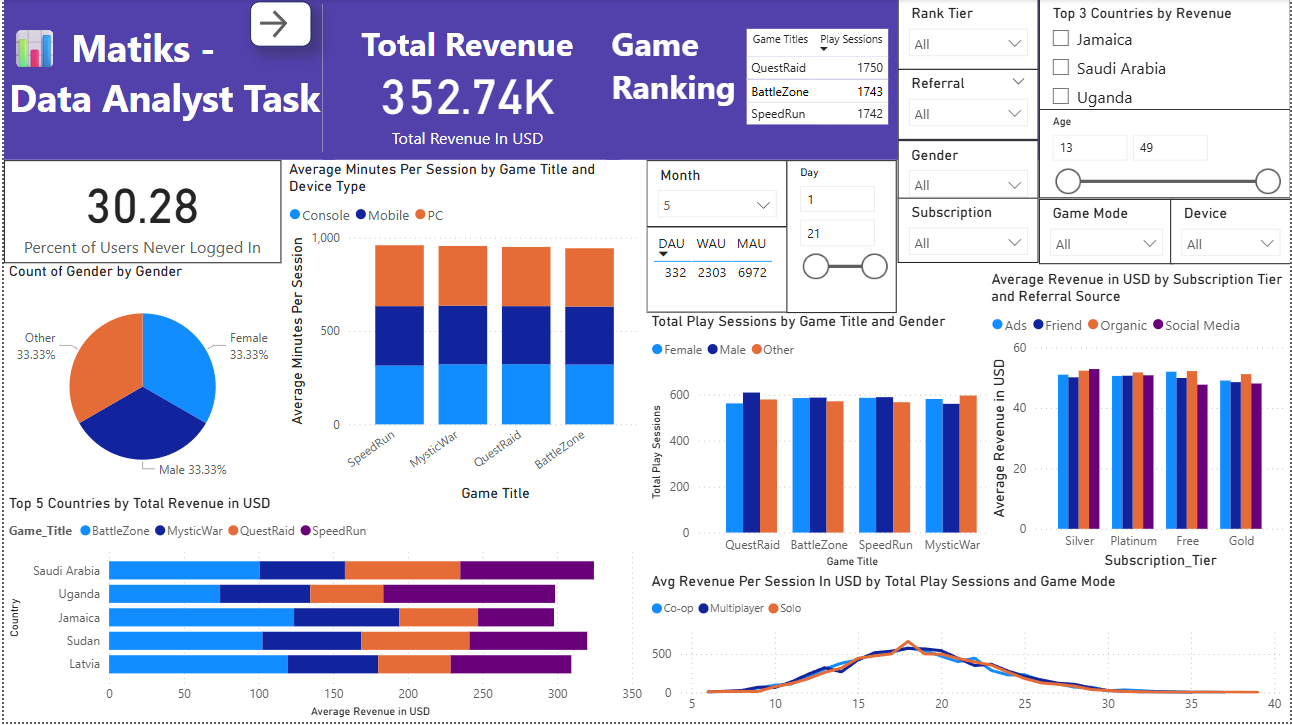

Layout of this report page (visuals, bound fields, positions):
{"tool":"powerbi","page":{"name":"Summary","canvas":[1280,720],"ordinal":0},"visuals":[{"type":"tableEx","fields":{"Values":["active_users.DAU","active_users.WAU","active_users.MAU"]},"box":[639.4,226.4,145.5,85.8],"z":0},{"type":"slicer","fields":{"Values":["Date.Month"]},"box":[640,160,140,66.2],"z":1000},{"type":"slicer","fields":{"Values":["Date.Day"]},"box":[778.7,160.5,109.5,151.8],"z":2000},{"type":"textbox","box":[0,0,330,159.7],"z":3000},{"type":"textbox","box":[317.5,0,296.2,160],"z":4000},{"type":"textbox","box":[600,0,298.8,160],"z":5000},{"type":"textbox","box":[888.8,0,391.2,160],"z":6000},{"type":"slicer","fields":{"Values":["matiks-clean-data.Gender"]},"box":[890,140,140,58.8],"z":7000},{"type":"slicer","fields":{"Values":["matiks-clean-data.Country"]},"box":[1030,0,250,118.8],"z":8000},{"type":"slicer","fields":{"Values":["matiks-clean-data.Age"]},"box":[1030,110,250,88.8],"z":9000},{"type":"slicer","fields":{"Values":["matiks-clean-data.Subscription_Tier"]},"box":[890,197.5,140,65],"z":10000},{"type":"slicer","fields":{"Values":["matiks-clean-data.Rank_Tier"]},"box":[890,0,140,70],"z":11000},{"type":"slicer","fields":{"Values":["matiks-clean-data.Referral_Source"]},"box":[890,70,140,70],"z":12000},{"type":"slicer","fields":{"Values":["matiks-clean-data.Preferred_Game_Mode"]},"box":[1030,198.8,133.8,65],"z":13000},{"type":"slicer","fields":{"Values":["matiks-clean-data.Device_Type"]},"box":[1160,198.8,120,65],"z":14000},{"type":"card","fields":{"Values":["Sum(matiks-clean-data.Total_Revenue_USD)"]},"box":[353.8,51.2,216.2,103.8],"z":15000},{"type":"tableEx","fields":{"Values":["matiks-clean-data.Game_Title","CountNonNull(matiks-clean-data.Total_Play_Sessions)"]},"box":[732.5,25,156.2,108.8],"z":16000},{"type":"pieChart","fields":{"Category":["matiks-clean-data.Gender"],"Y":["CountNonNull(visuals.Gender)"]},"box":[0,262.5,276.2,230],"z":17000},{"type":"columnChart","fields":{"Category":["matiks-clean-data.Game_Title"],"Y":["Avg(matiks-clean-data.Avg_Minutes_Per_Session)"],"Series":["matiks-clean-data.Device_Type"]},"box":[278.6,160.5,360.7,344.6],"z":18000},{"type":"clusteredColumnChart","fields":{"Series":["matiks-clean-data.Gender"],"Category":["matiks-clean-data.Game_Title"],"Y":["CountNonNull(matiks-clean-data.Total_Play_Sessions)"]},"box":[640,312.5,362.5,258.8],"z":19000},{"type":"barChart","title":"Top 5 Countries by Total Revenue in USD","fields":{"Category":["matiks-clean-data.Country"],"Y":["Avg(matiks-clean-data.Total_Revenue_USD)"],"Series":["matiks-clean-data.Game_Title"]},"box":[0,492.5,640,227.5],"z":20000},{"type":"clusteredColumnChart","title":"Average Revenue in USD by Subscription Tier and Referral Source","fields":{"Category":["matiks-clean-data.Subscription_Tier"],"Y":["Avg(matiks-clean-data.Total_Revenue_USD)"],"Series":["matiks-clean-data.Referral_Source"]},"box":[977.8,269.9,302.3,301],"z":21000},{"type":"lineChart","fields":{"Y":["Sum(matiks-clean-data.Revenue_Per_Session_USD)"],"Category":["matiks-clean-data.Total_Play_Sessions"],"Series":["matiks-clean-data.Preferred_Game_Mode"]},"box":[640,571.2,640,148.8],"z":22000},{"type":"card","fields":{"Values":["CountNonNull(matiks-clean-data.Recency_Category)","select"]},"box":[0,160,276.2,102.5],"z":23000},{"type":"actionButton","box":[245.5,2.6,60.7,44.9],"z":23001}]}

Visuals, with their boxes in screenshot pixels (x1, y1, x2, y2), scaled from the page's 1280x720 canvas onto the 1292x725 screenshot:
tableEx - active_users.DAU x active_users.WAU: [645, 228, 792, 314]
slicer - Date.Month: [646, 161, 787, 228]
slicer - Date.Day: [786, 162, 897, 314]
textbox: [0, 0, 333, 161]
textbox: [320, 0, 619, 161]
textbox: [606, 0, 907, 161]
textbox: [897, 0, 1291, 161]
slicer - matiks-clean-data.Gender: [898, 141, 1040, 200]
slicer - matiks-clean-data.Country: [1040, 0, 1291, 120]
slicer - matiks-clean-data.Age: [1040, 111, 1291, 200]
slicer - matiks-clean-data.Subscription_Tier: [898, 199, 1040, 264]
slicer - matiks-clean-data.Rank_Tier: [898, 0, 1040, 70]
slicer - matiks-clean-data.Referral_Source: [898, 70, 1040, 141]
slicer - matiks-clean-data.Preferred_Game_Mode: [1040, 200, 1175, 266]
slicer - matiks-clean-data.Device_Type: [1171, 200, 1291, 266]
card - Sum(matiks-clean-data.Total_Revenue_USD): [357, 52, 575, 156]
tableEx - matiks-clean-data.Game_Title x CountNonNull(matiks-clean-data.Total_Play_Sessions): [739, 25, 897, 135]
pieChart - matiks-clean-data.Gender x CountNonNull(visuals.Gender): [0, 264, 279, 496]
columnChart - matiks-clean-data.Game_Title x Avg(matiks-clean-data.Avg_Minutes_Per_Session): [281, 162, 645, 509]
clusteredColumnChart - matiks-clean-data.Gender x matiks-clean-data.Game_Title: [646, 315, 1012, 575]
"Top 5 Countries by Total Revenue in USD" barChart: [0, 496, 646, 724]
"Average Revenue in USD by Subscription Tier and Referral Source" clusteredColumnChart: [987, 272, 1291, 575]
lineChart - Sum(matiks-clean-data.Revenue_Per_Session_USD) x matiks-clean-data.Total_Play_Sessions: [646, 575, 1291, 724]
card - CountNonNull(matiks-clean-data.Recency_Category) x select: [0, 161, 279, 264]
actionButton: [248, 3, 309, 48]
